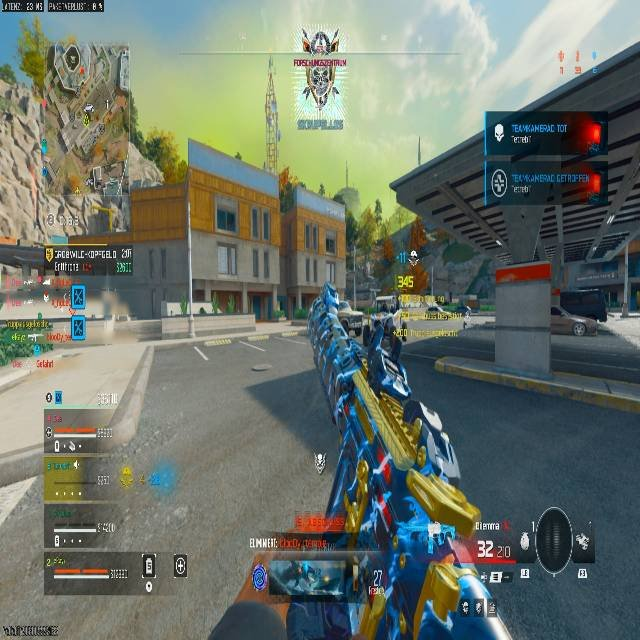player: (307, 282, 368, 408), (310, 282, 345, 339)
